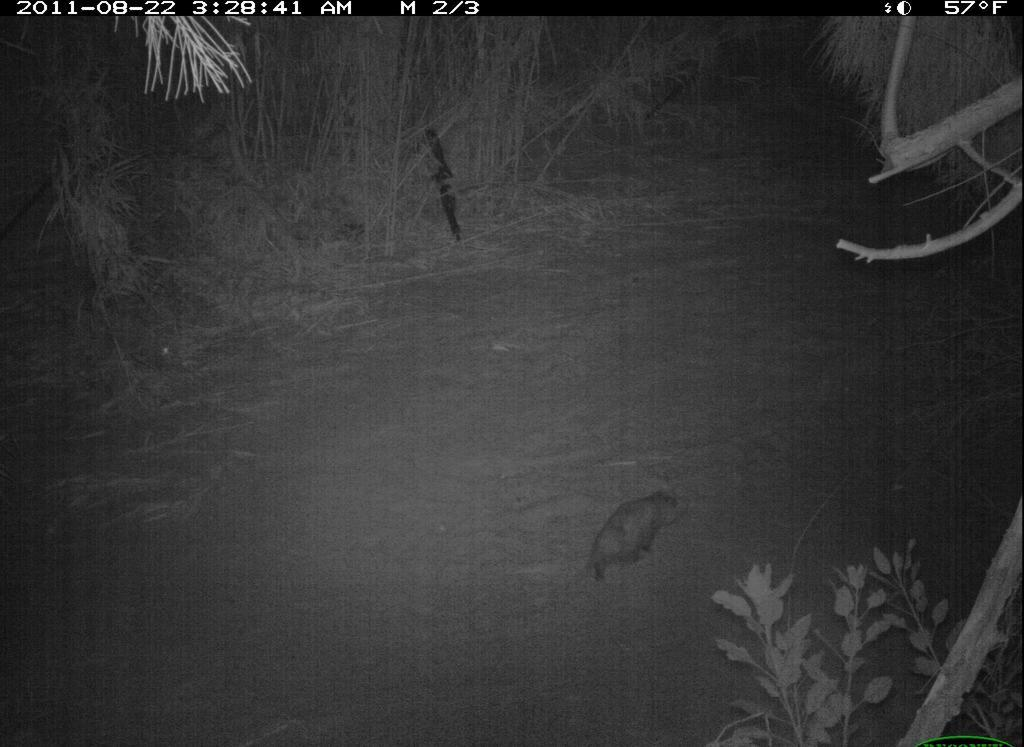opossum: (569, 478, 690, 596)
